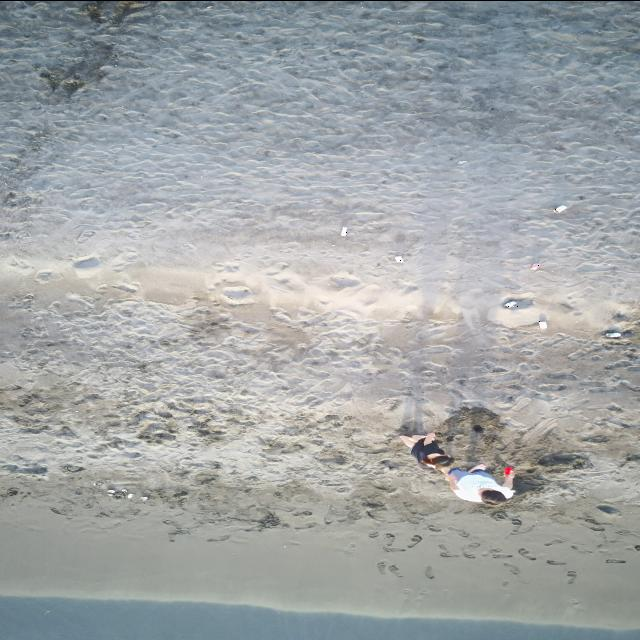Garbage: (502, 298, 532, 307), (107, 487, 127, 496), (604, 329, 620, 337), (553, 204, 567, 212), (504, 300, 516, 307), (529, 263, 540, 270), (504, 466, 512, 475), (340, 226, 347, 236), (92, 480, 103, 486), (539, 320, 546, 328), (395, 255, 402, 261), (457, 160, 467, 164), (107, 488, 115, 492), (140, 495, 147, 499), (128, 492, 132, 499)
